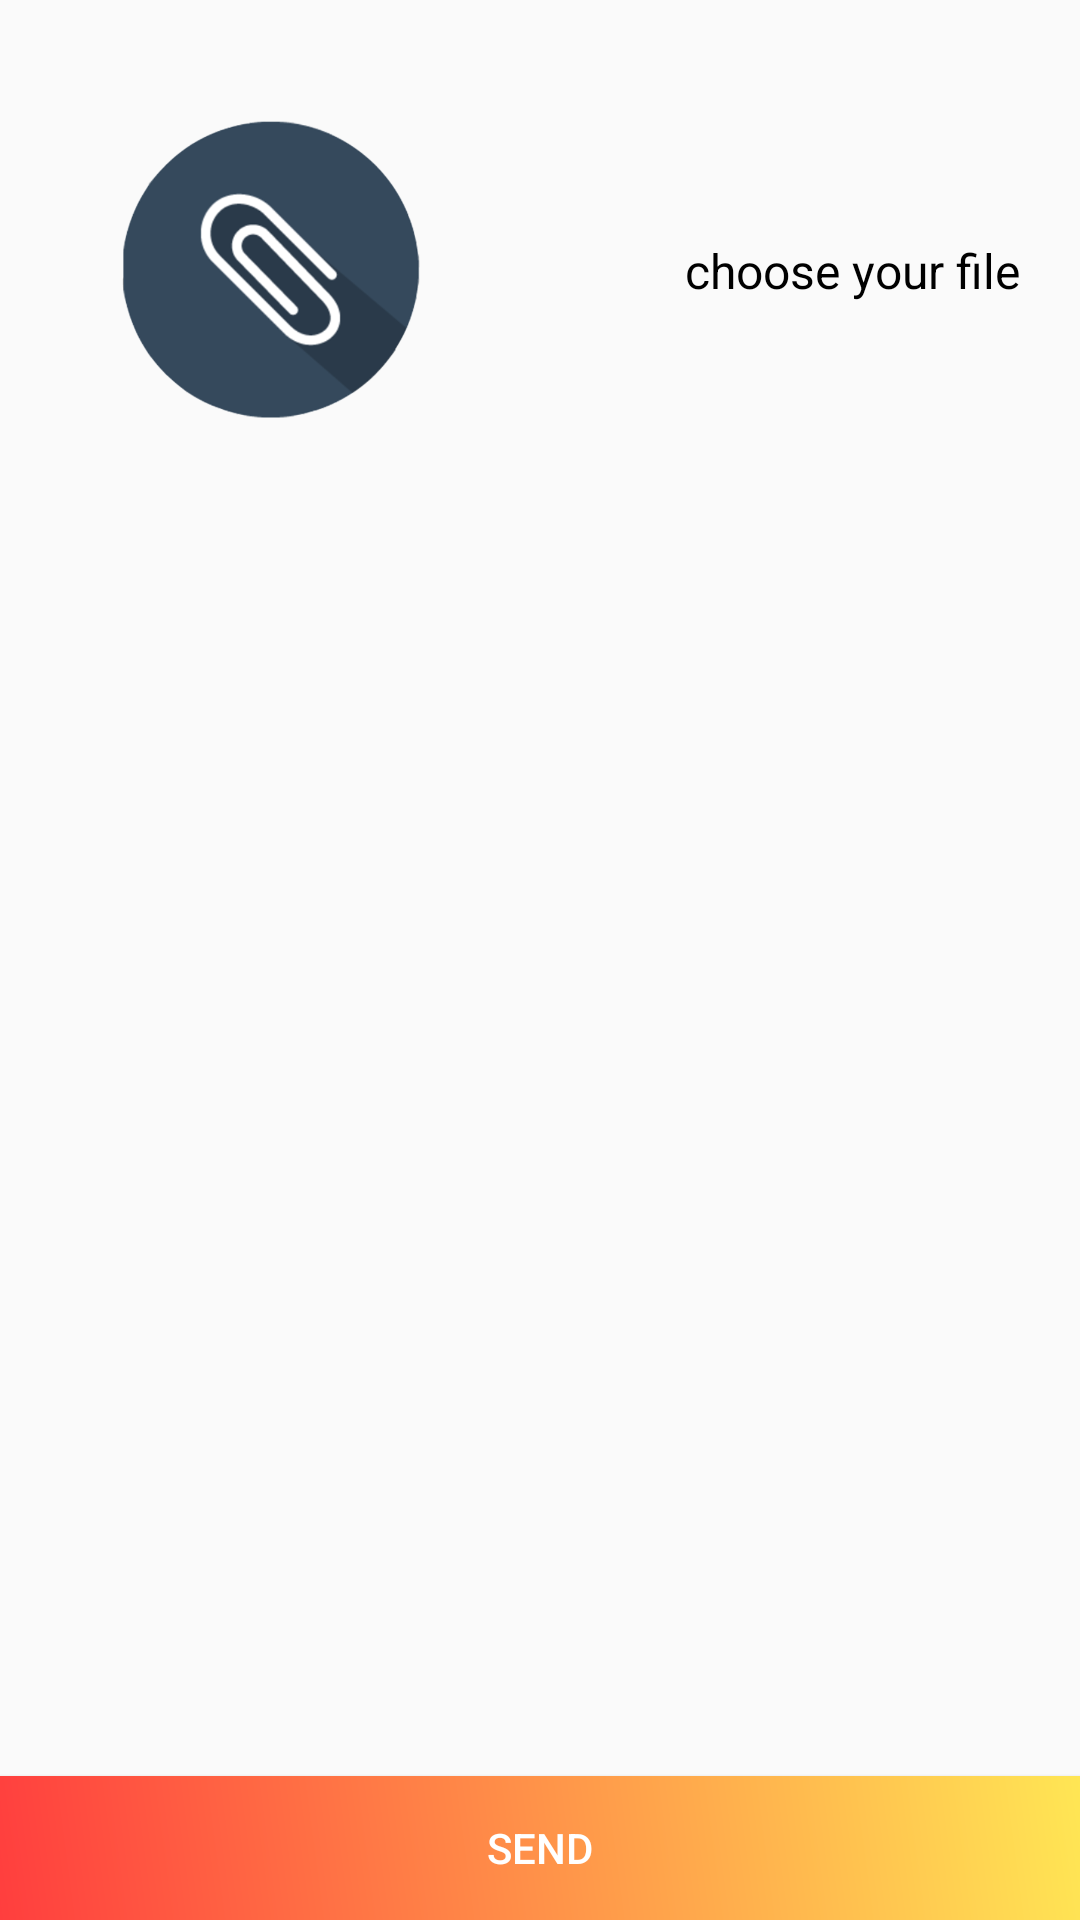

Point at icon controls on the screen. Image size 1080×1920, points as [x,y].
attach: [271,269]
